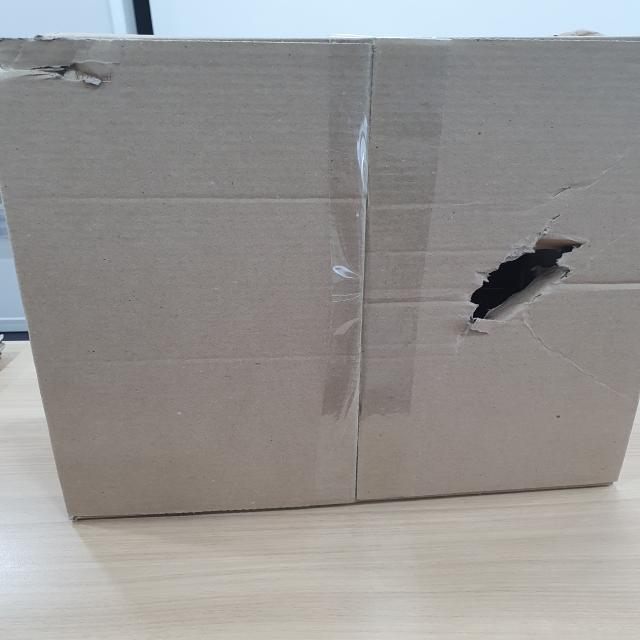hole: (456, 229, 585, 315), (0, 42, 129, 102)
